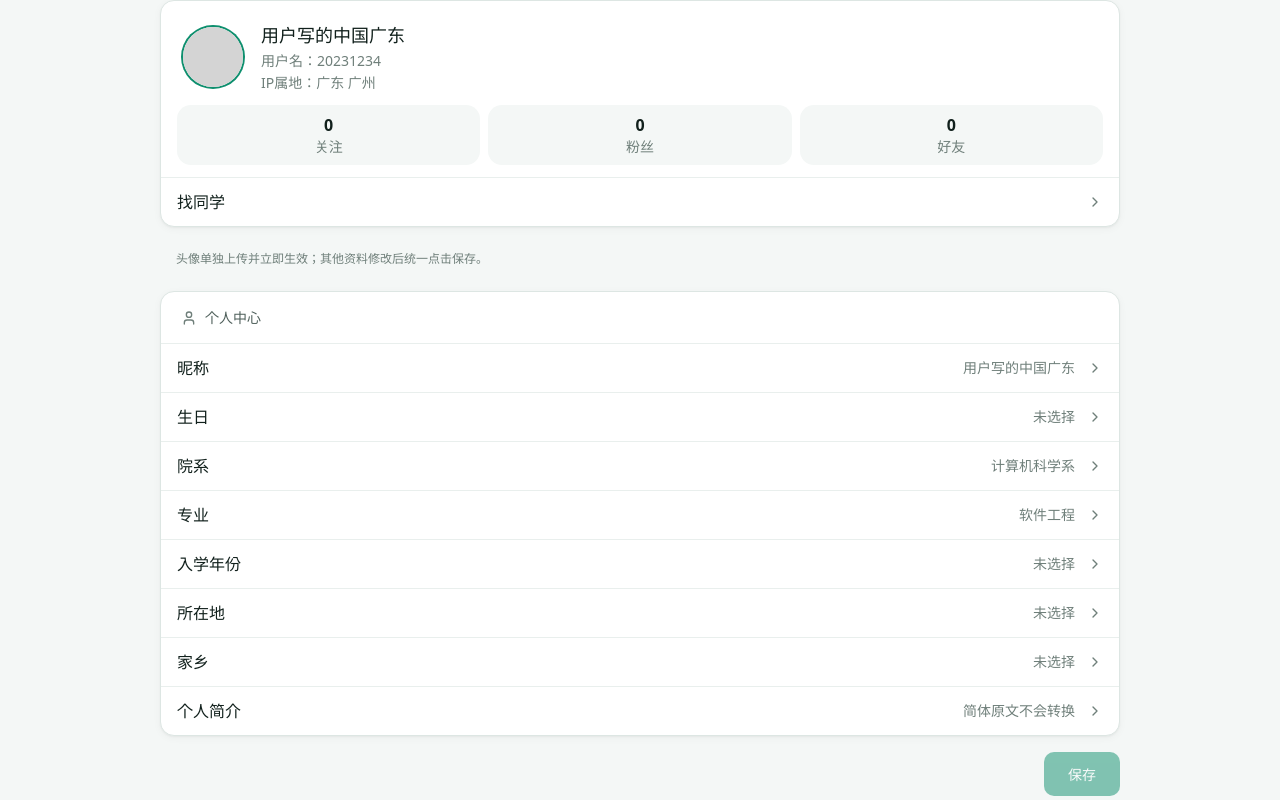
Test: profile loading and confirmed edits › stages edits, prevents duplicate submits and retains input after failure
Check: the button "保存" is disabled, box [1044,752,1120,796]
Click the button "昵称 用户写的中国广东" at (193, 368), box [161,344,1119,393]
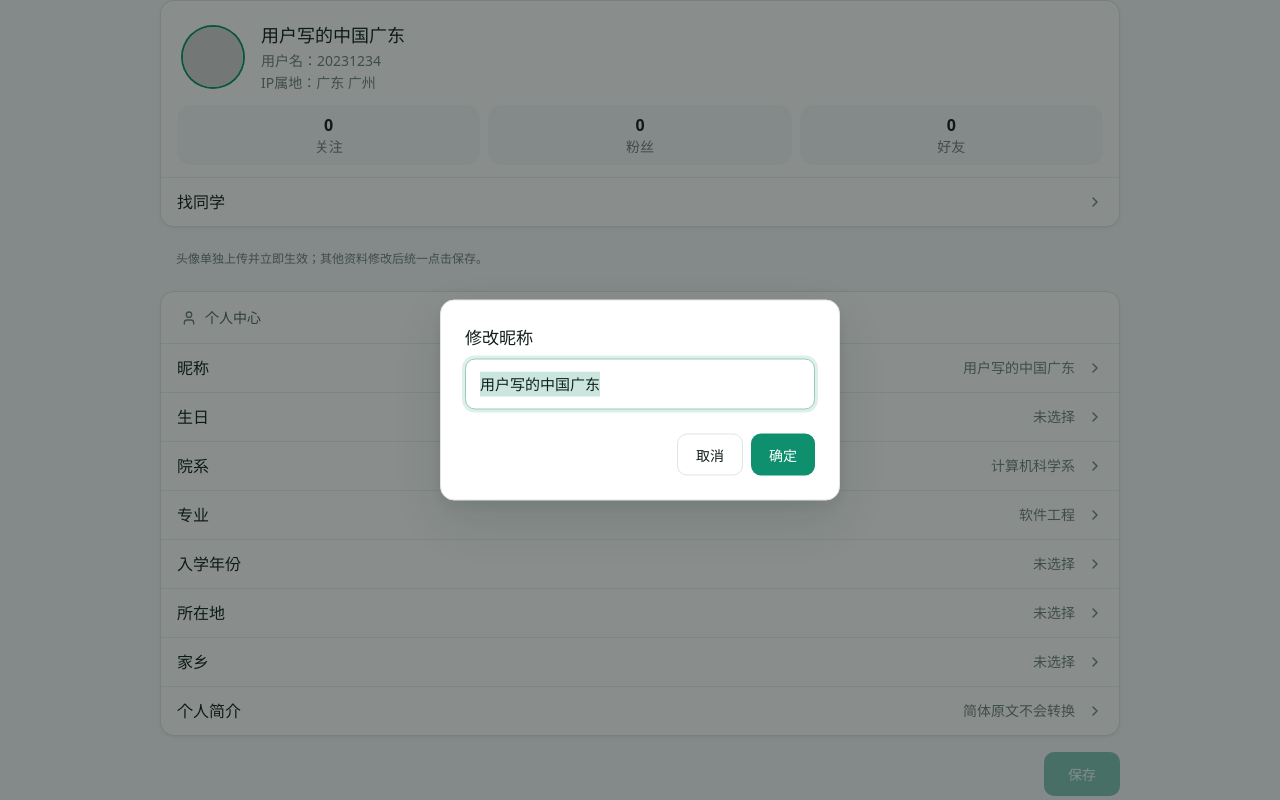
Replace the text in the field named "修改昵称" with "staged nickname" at (640, 384), box [465,358,815,410]
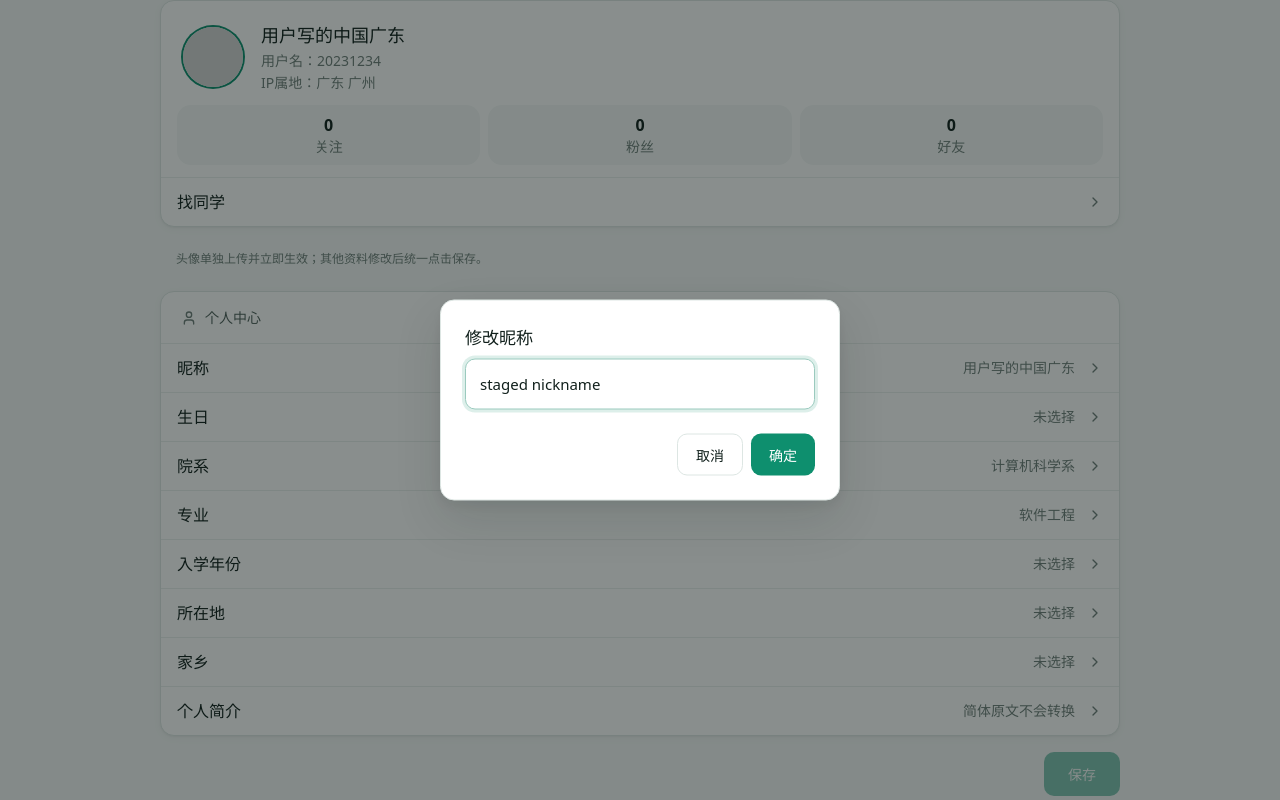
Click the button "确定" at (783, 454), box [751,434,815,476]
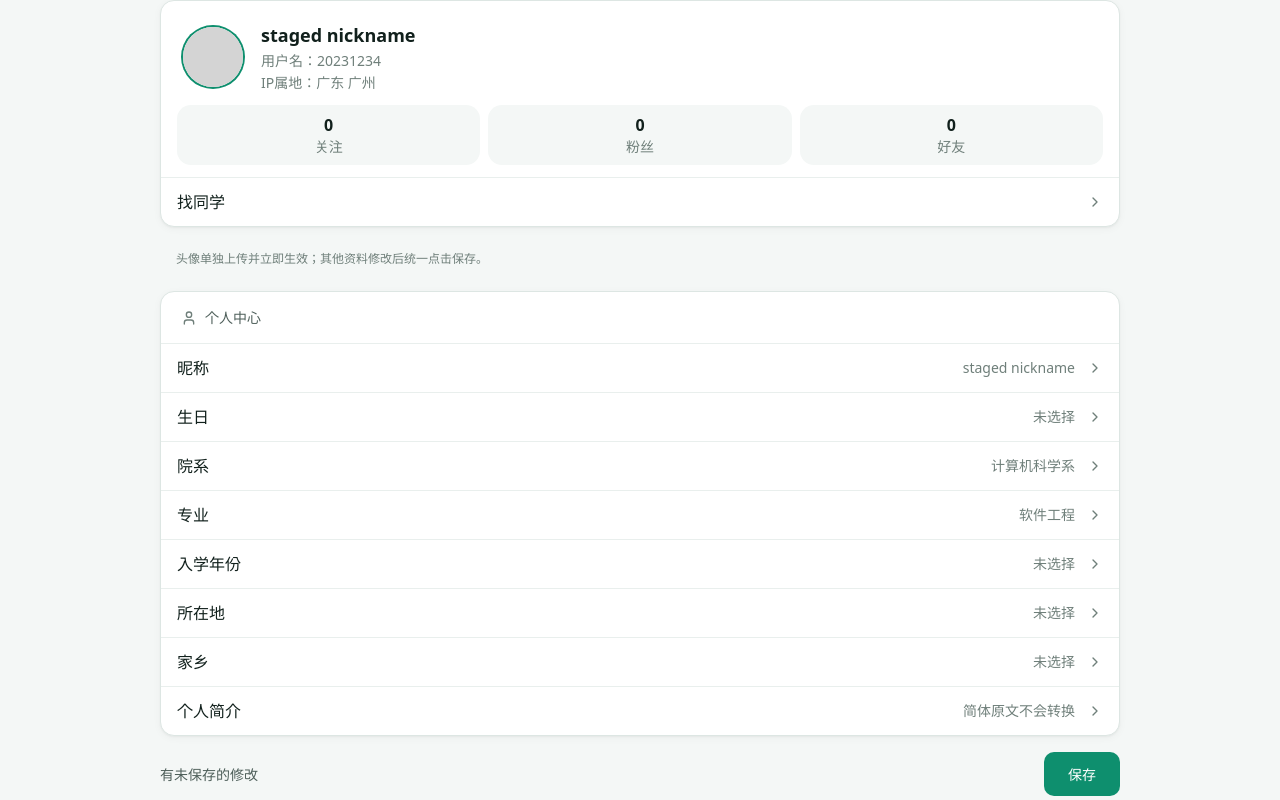
Click the button "保存" at (1082, 774), box [1044,752,1120,796]
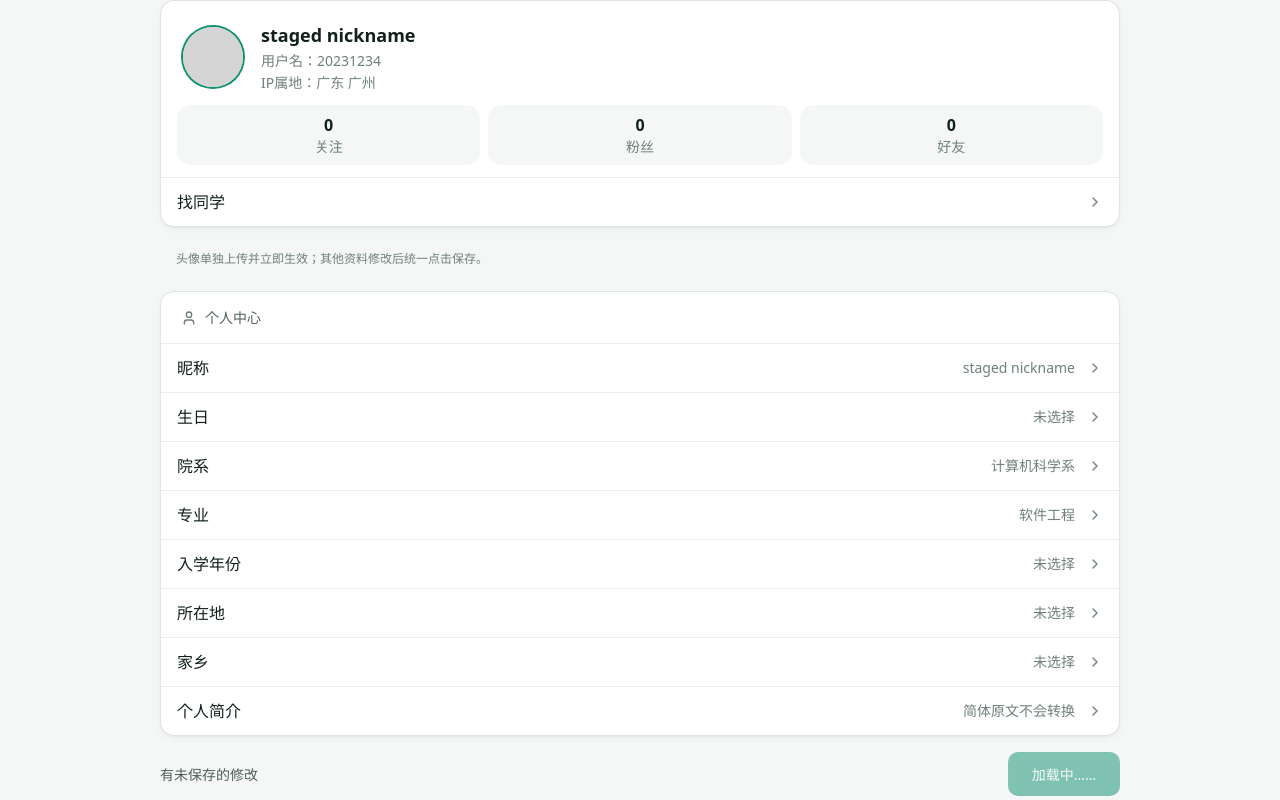
Check: the button "加载中……" is disabled
Click the button "加载中……" at (1064, 774), box [1008,752,1120,796]
(page scrolled)
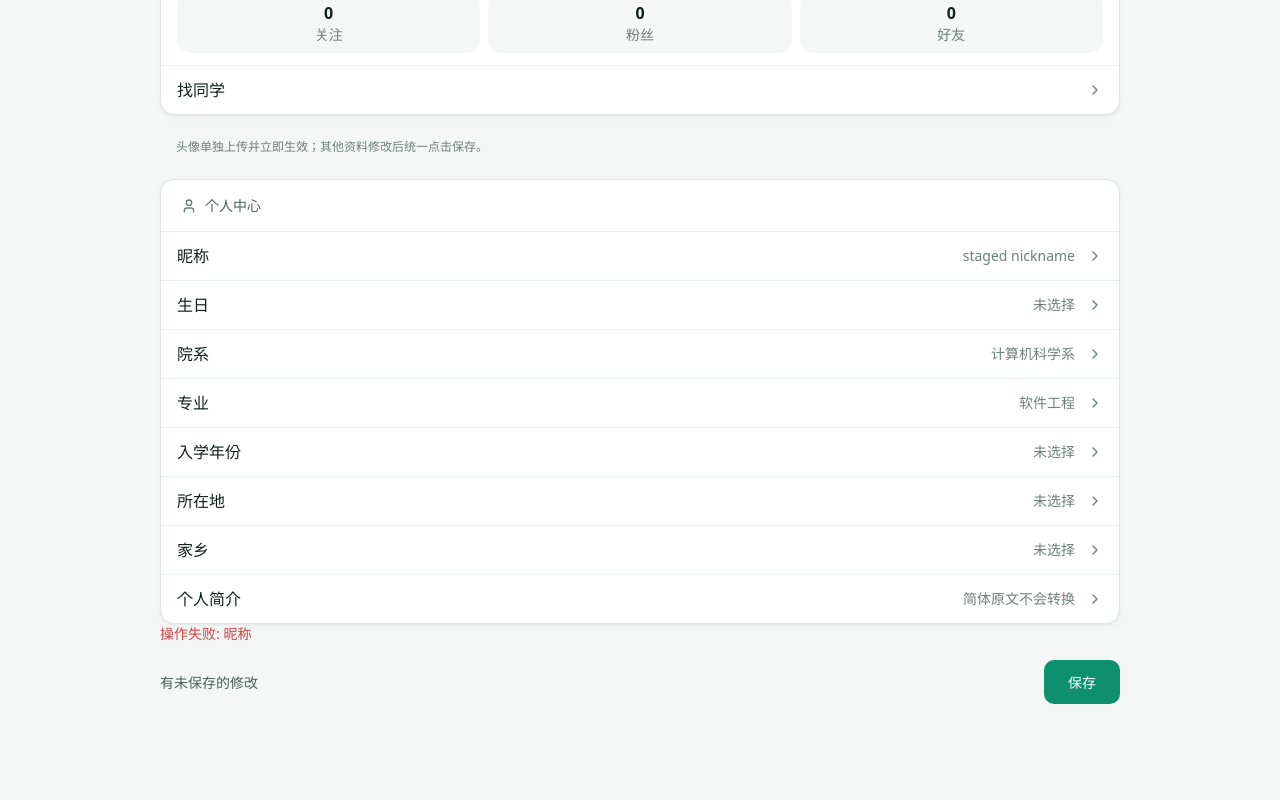
Check: the button "保存" is enabled
Click the button "保存" at (1082, 682), box [1044,660,1120,704]
(page scrolled)
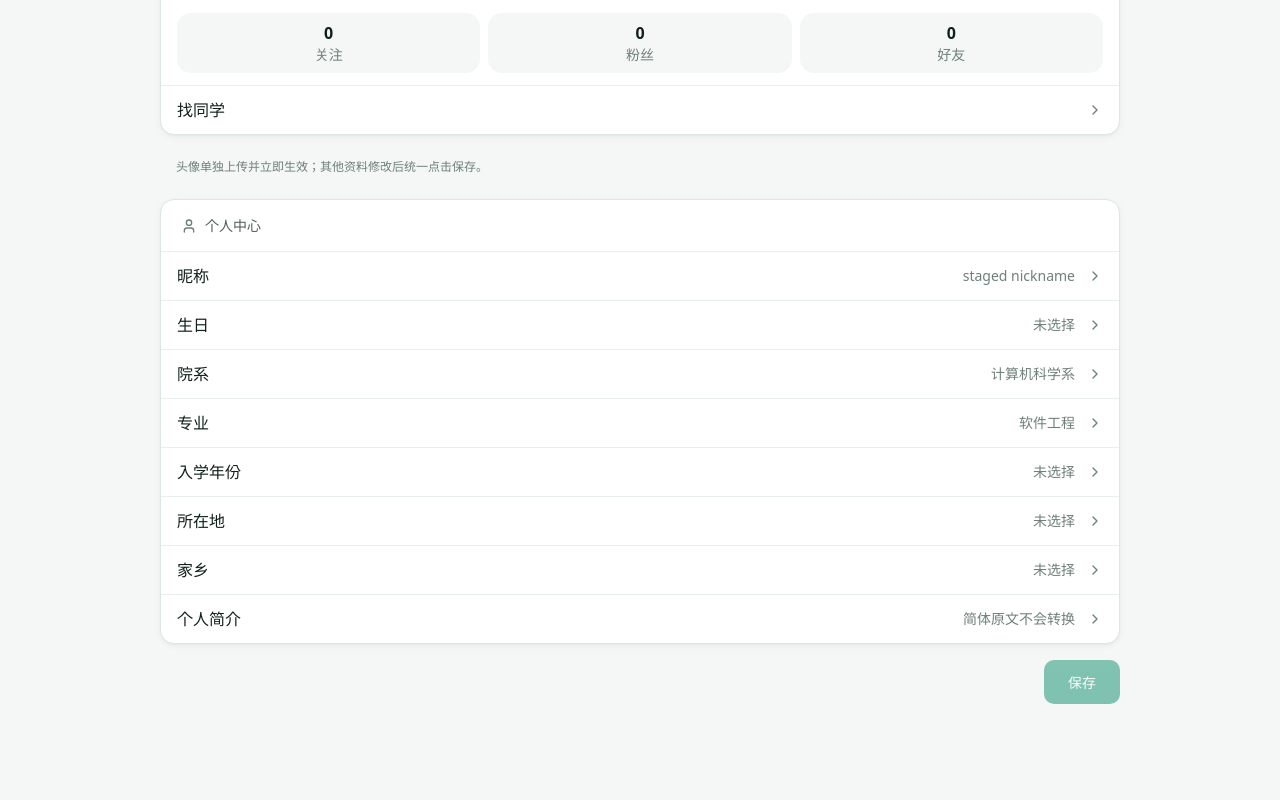
Check: the button "保存" is disabled, box [1044,660,1120,704]
